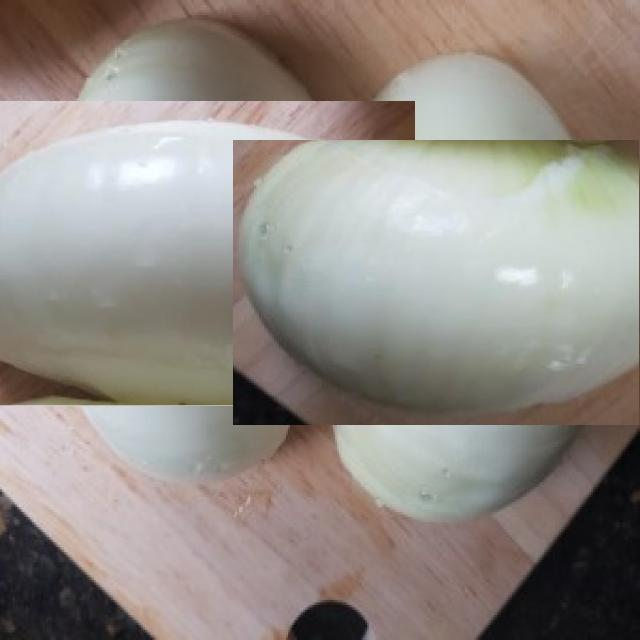Onion: (0, 60, 373, 448), (284, 90, 640, 477)
